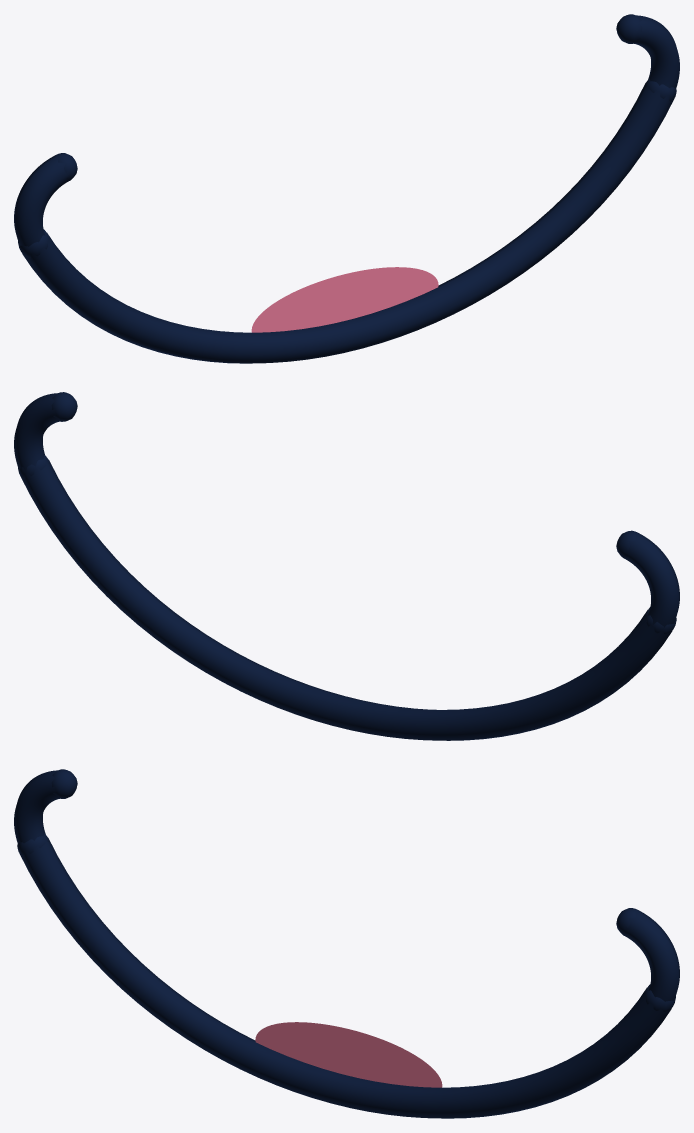
The model's file is smile.glb.
The picture shows the model from 3 angles, top to bottom: view 1: azimuth 30°, elevation 25°; view 2: azimuth 150°, elevation 25°; view 3: azimuth 330°, elevation 25°; orthographic projection.
Parts seen in each view (by area): view 1: smile_-100_line, smile_-103_mark, smile_-101_line, smile_-102_line; view 2: smile_-100_line, smile_-101_line, smile_-102_line; view 3: smile_-100_line, smile_-103_mark, smile_-102_line, smile_-101_line.
Boxes of the visible parts, x1,y1,x2,y2 form: smile_-100_line: [18, 78, 676, 363]; smile_-103_mark: [251, 267, 438, 332]; smile_-101_line: [14, 153, 77, 246]; smile_-102_line: [616, 14, 679, 88]; smile_-100_line: [18, 455, 676, 740]; smile_-101_line: [616, 530, 679, 628]; smile_-102_line: [14, 392, 77, 471]; smile_-100_line: [17, 833, 675, 1118]; smile_-103_mark: [255, 1022, 442, 1087]; smile_-102_line: [616, 908, 679, 1001]; smile_-101_line: [14, 769, 77, 843].
Bounding box in the file's own units: 0.3687 × 0.1411 × 0.016.
